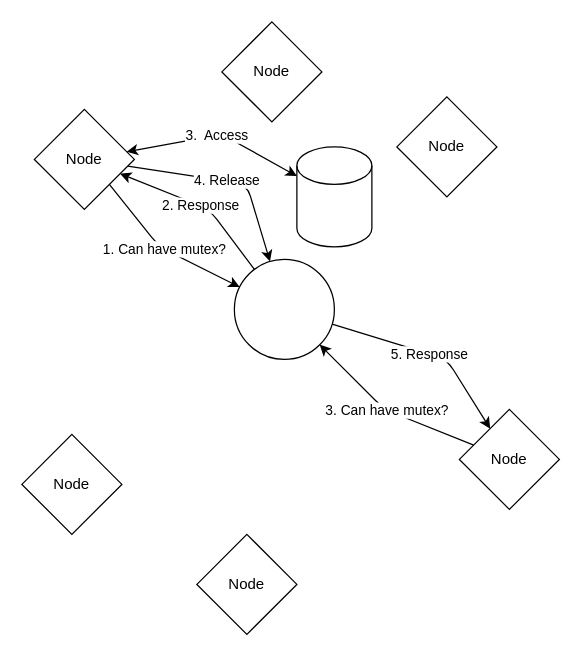
The diagram is 581 pixels wide and 656 high, and some of its shapes have lost their labels. The shapes that lost their labels are listed below. From the top down, each one's box as (x1, y1, x2, y2) in pixels, then its label:
(296, 146, 372, 247): Critical Section
(233, 258, 334, 359): Server
